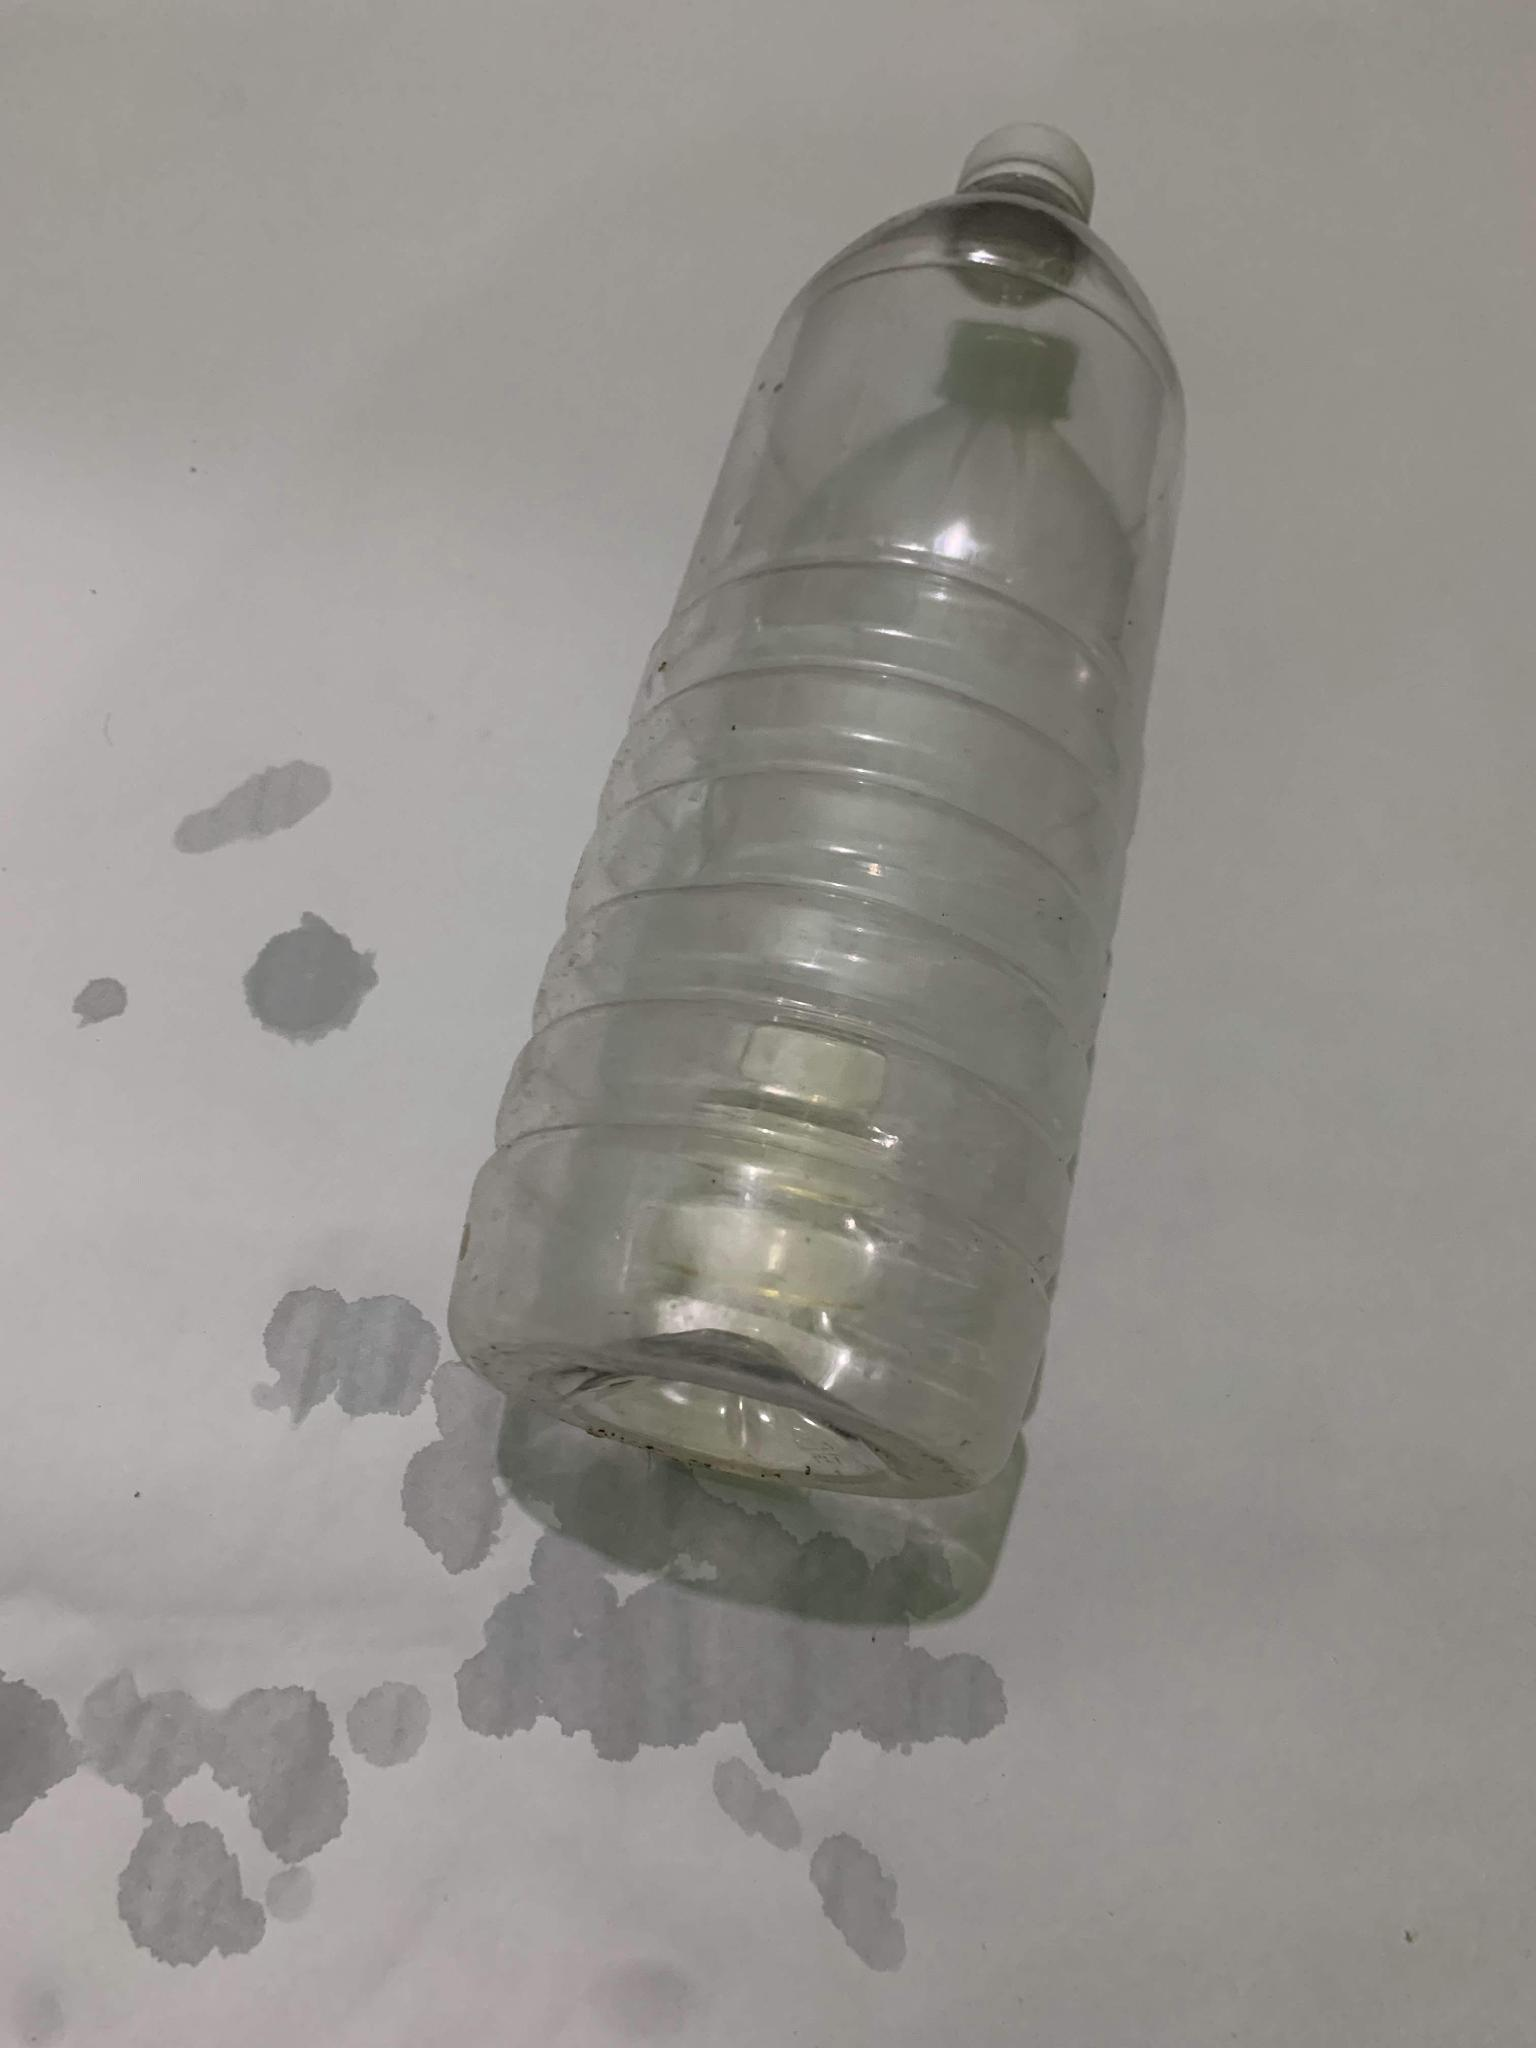bottle: (430, 120, 1214, 1526)
